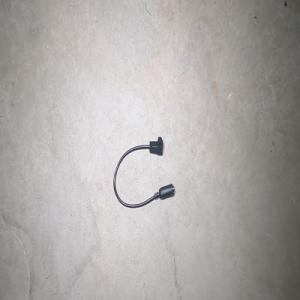Wire: (113, 136, 174, 208)
